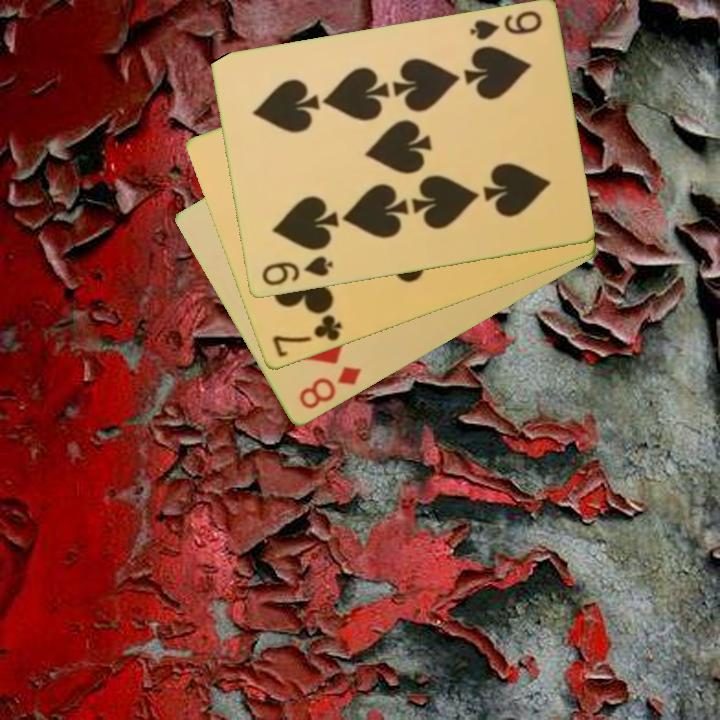7c: (268, 311, 345, 361)
8d: (295, 363, 365, 413)
9s: (466, 7, 545, 44), (258, 253, 336, 290)
